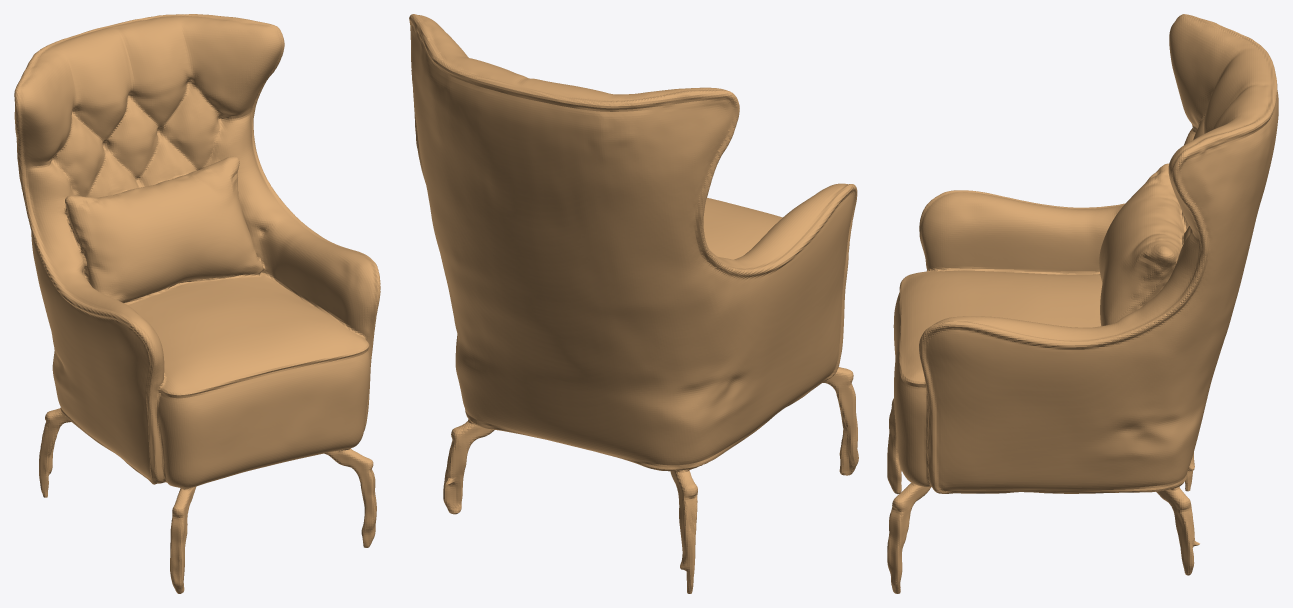
3 renders of one model, left to right at view 1: azimuth 30°, elevation 25°; view 2: azimuth 150°, elevation 25°; view 3: azimuth 270°, elevation 25°, orthographic. The views are drawn at different scales.
Visible parts, largest first — view 1: tmpljohsk4_ply; view 2: tmpljohsk4_ply; view 3: tmpljohsk4_ply.
Boxes of the visible parts, box(x1,y1,x2,y2) form: tmpljohsk4_ply: box(14, 14, 380, 593); tmpljohsk4_ply: box(409, 14, 858, 593); tmpljohsk4_ply: box(887, 14, 1278, 593).
Bounding box in the file's own units: 0.8022 × 1.2 × 0.9163.
